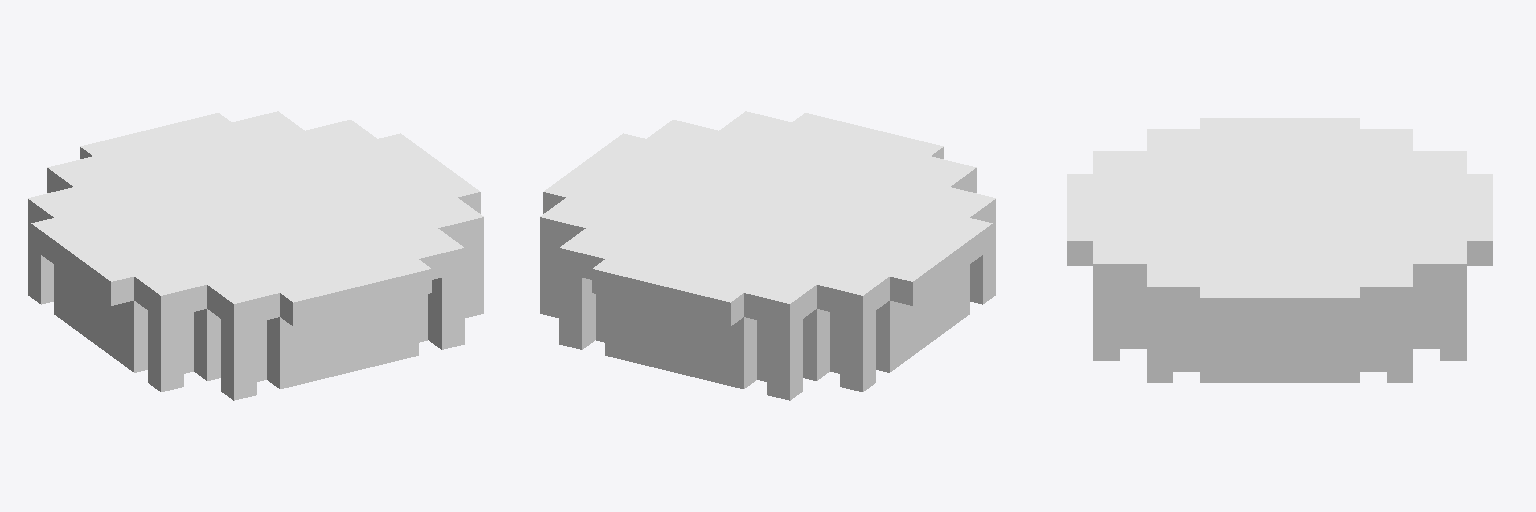
Rendered from plant_base.obj.
The picture shows the model from 3 angles: view 1: azimuth 30°, elevation 25°; view 2: azimuth 150°, elevation 25°; view 3: azimuth 270°, elevation 25°; orthographic projection.
Visible parts, largest first — view 1: object 1; view 2: object 1; view 3: object 1.
Part boxes in pixels (x1,y1,x2,y2): object 1: (28, 111, 483, 400); object 1: (540, 111, 995, 400); object 1: (1067, 118, 1492, 382).
Size of the model in its own units: 1.6 by 0.4 by 1.6.